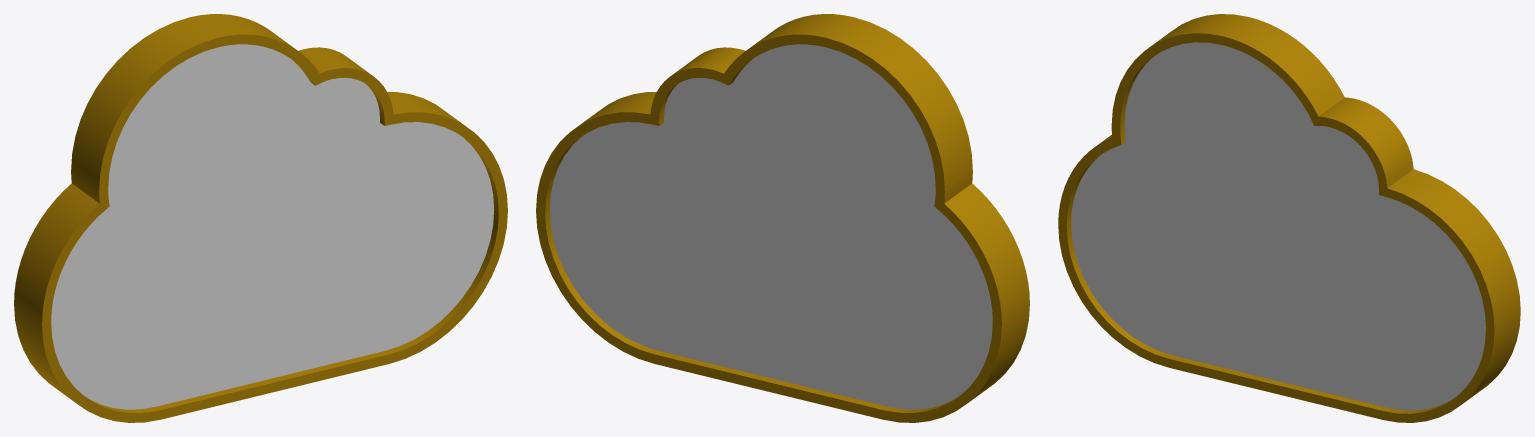
The model's file is cloud.glb.
The picture shows the model from 3 angles, left to right: view 1: azimuth 30°, elevation 25°; view 2: azimuth 150°, elevation 25°; view 3: azimuth 330°, elevation 25°; orthographic projection. The views are drawn at different scales.
Visible parts, largest first — view 1: cloud; view 2: cloud; view 3: cloud.
Part boxes in pixels (x1,y1,x2,y2): cloud: (14, 14, 507, 422); cloud: (536, 14, 1029, 422); cloud: (1058, 14, 1520, 422).
Bounding box in the file's own units: 1.73 × 1.3 × 0.18.
